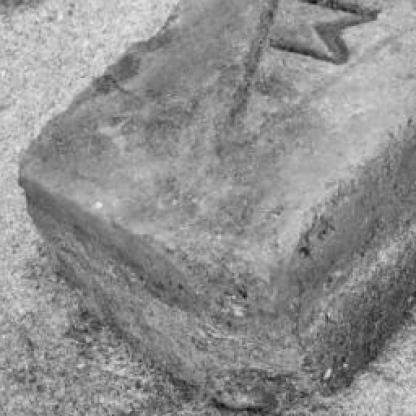brick: (14, 2, 414, 413)
